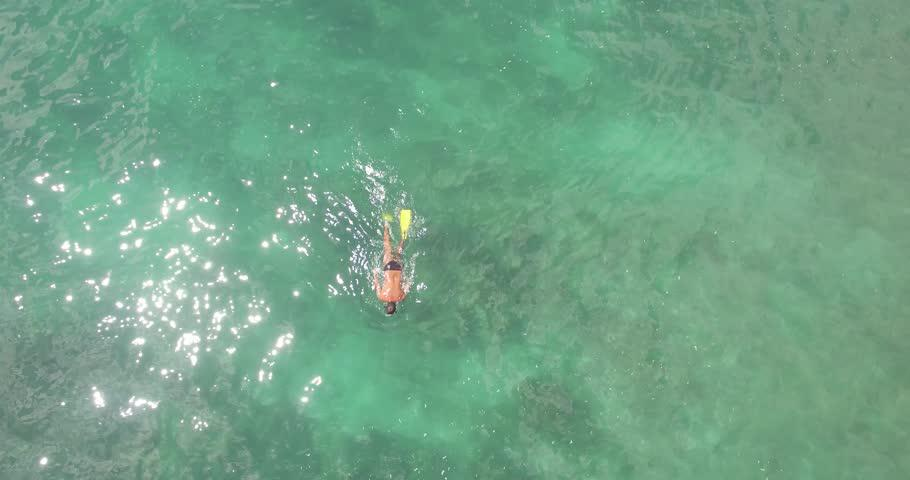swimmer: (365, 207, 416, 320)
